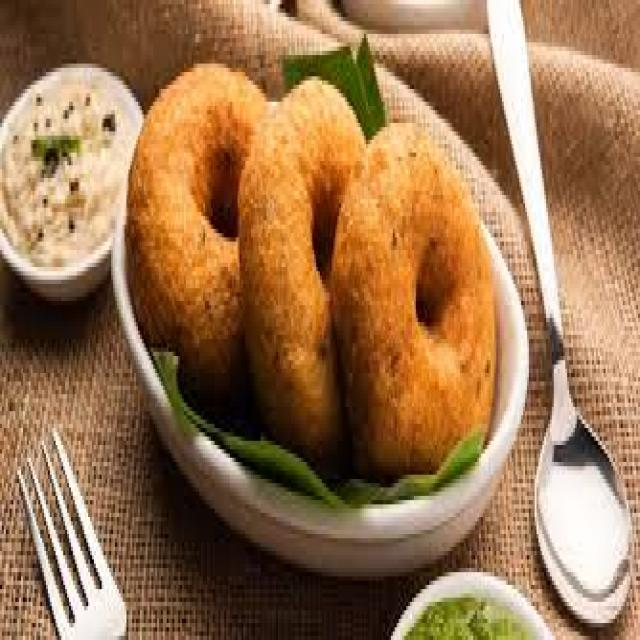MEDU VADA: (330, 123, 494, 470), (240, 81, 364, 475), (128, 68, 263, 398)
